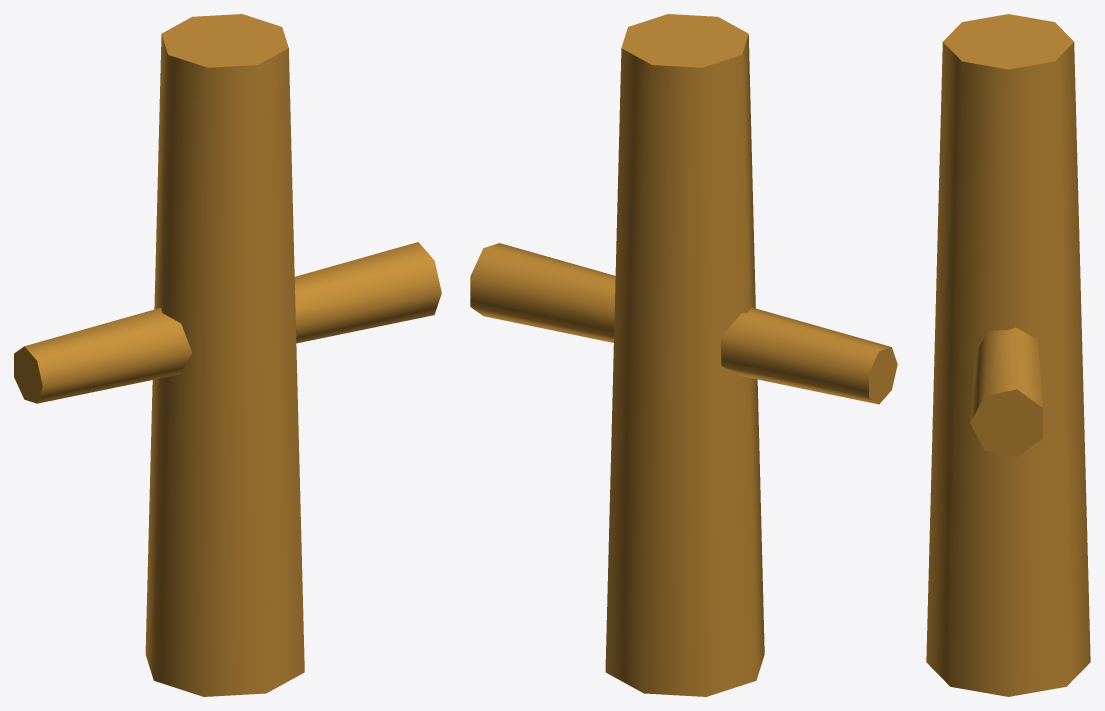
File: scarecrow.glb
3 views of the same model, side by side, from view 1: azimuth 30°, elevation 25°; view 2: azimuth 150°, elevation 25°; view 3: azimuth 270°, elevation 25° (orthographic).
Parts seen in each view (by area): view 1: stem, arm_-1, arm_1; view 2: stem, arm_-1, arm_1; view 3: stem, arm_1.
Part boxes in pixels (box(x1,y1,x2,y2)): stem: box(145, 14, 304, 696); arm_-1: box(14, 307, 192, 403); arm_1: box(294, 242, 441, 343); stem: box(605, 14, 764, 696); arm_-1: box(720, 307, 897, 404); arm_1: box(470, 243, 615, 342); stem: box(926, 14, 1090, 696); arm_1: box(970, 327, 1042, 456).
Size of what is drawn, in the model's own units: 1.66 by 2.5 by 0.6.
